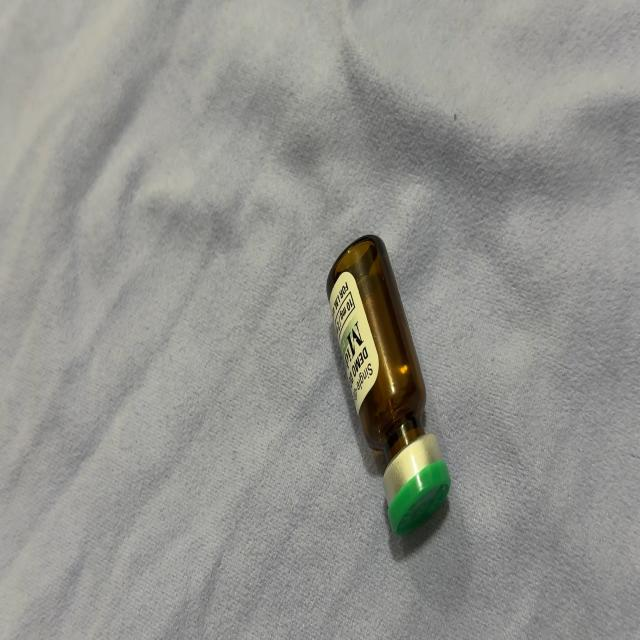midazolm: (328, 240, 449, 531)
